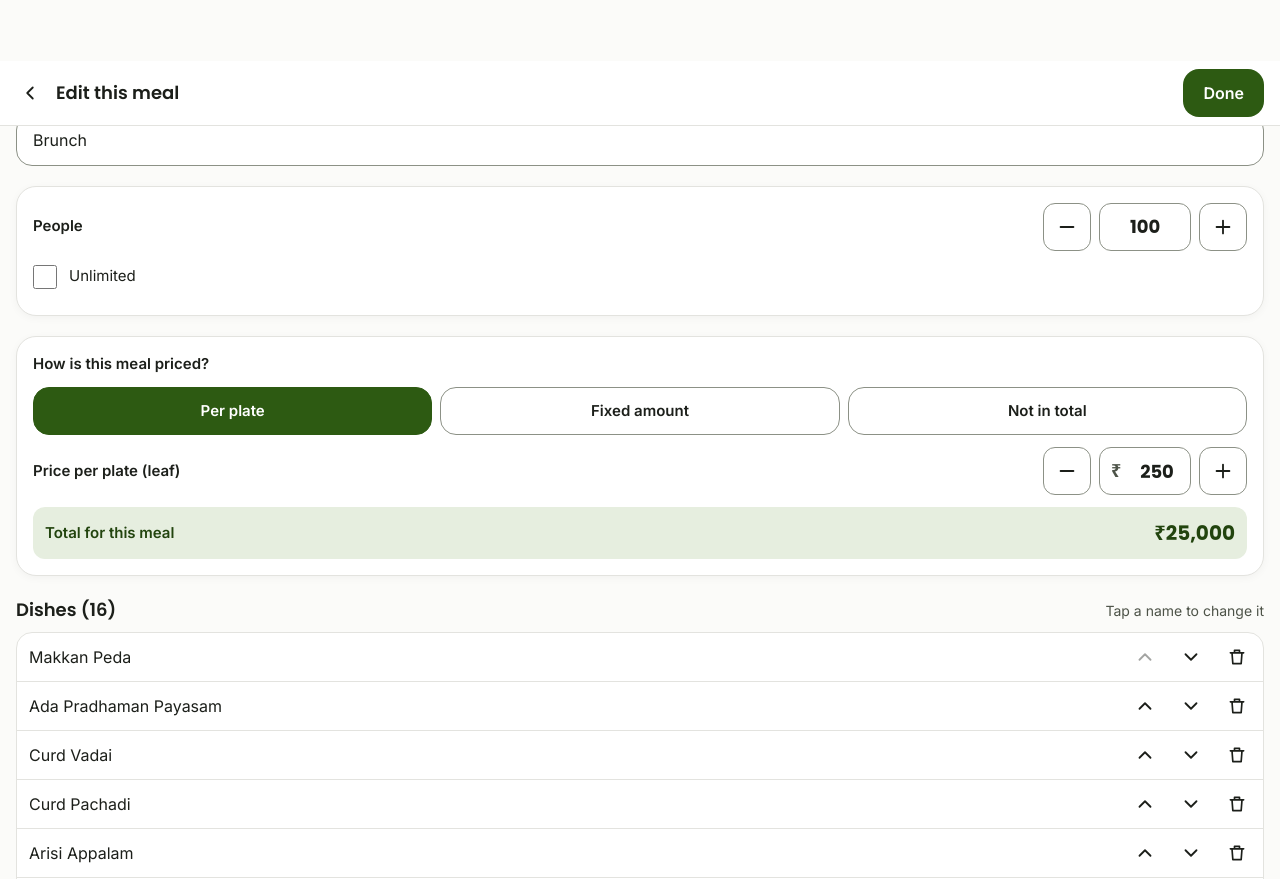
Test case: Meal editor › removes a dish with an Undo toast that brings it back
This screenshot has width=1280, height=879.
Later steps or results of the test are not shown.
Click the button named "Remove Curd Vadai" at x=1237, y=755, box [1215,733,1259,777]
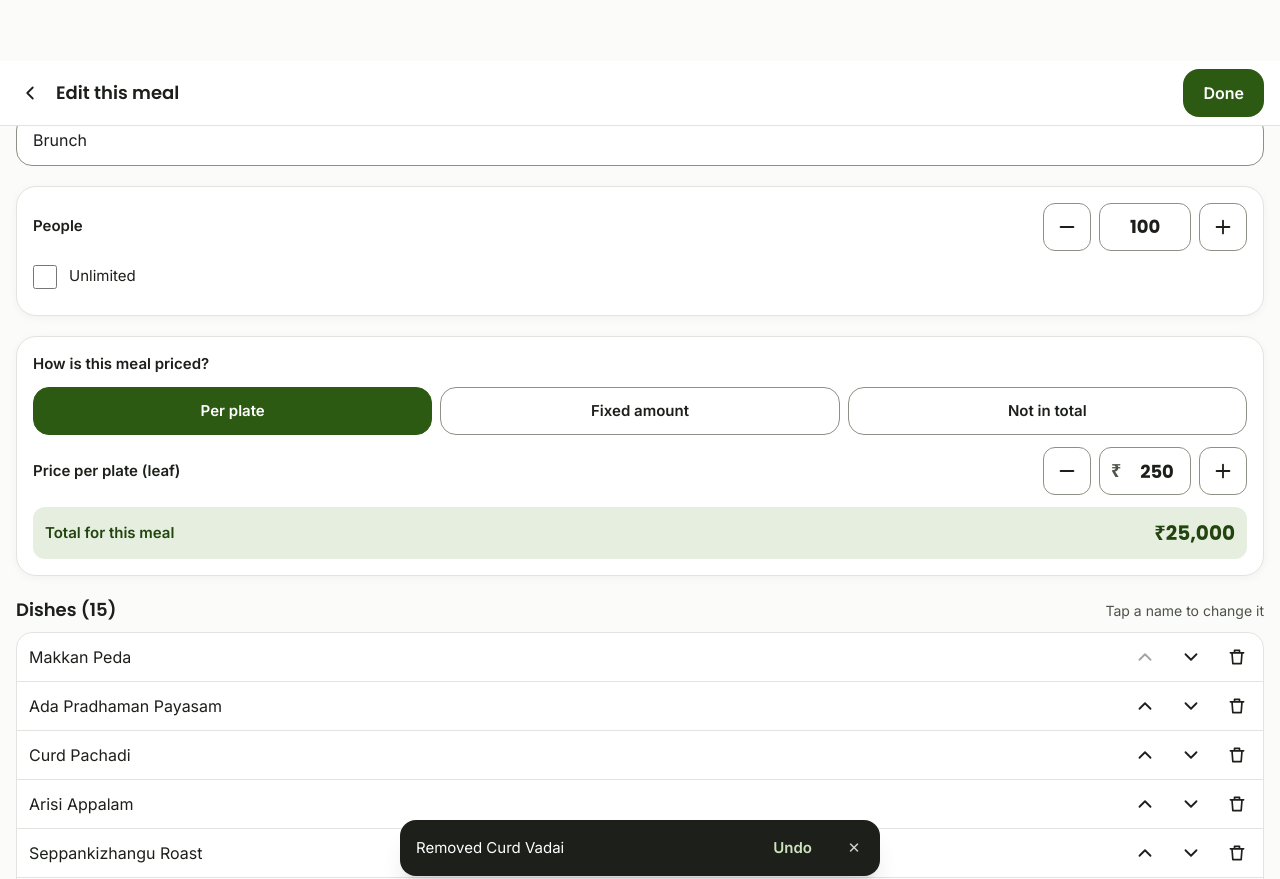
Check: the message shows "Removed Curd Vadai", box [416,838,564,857]
